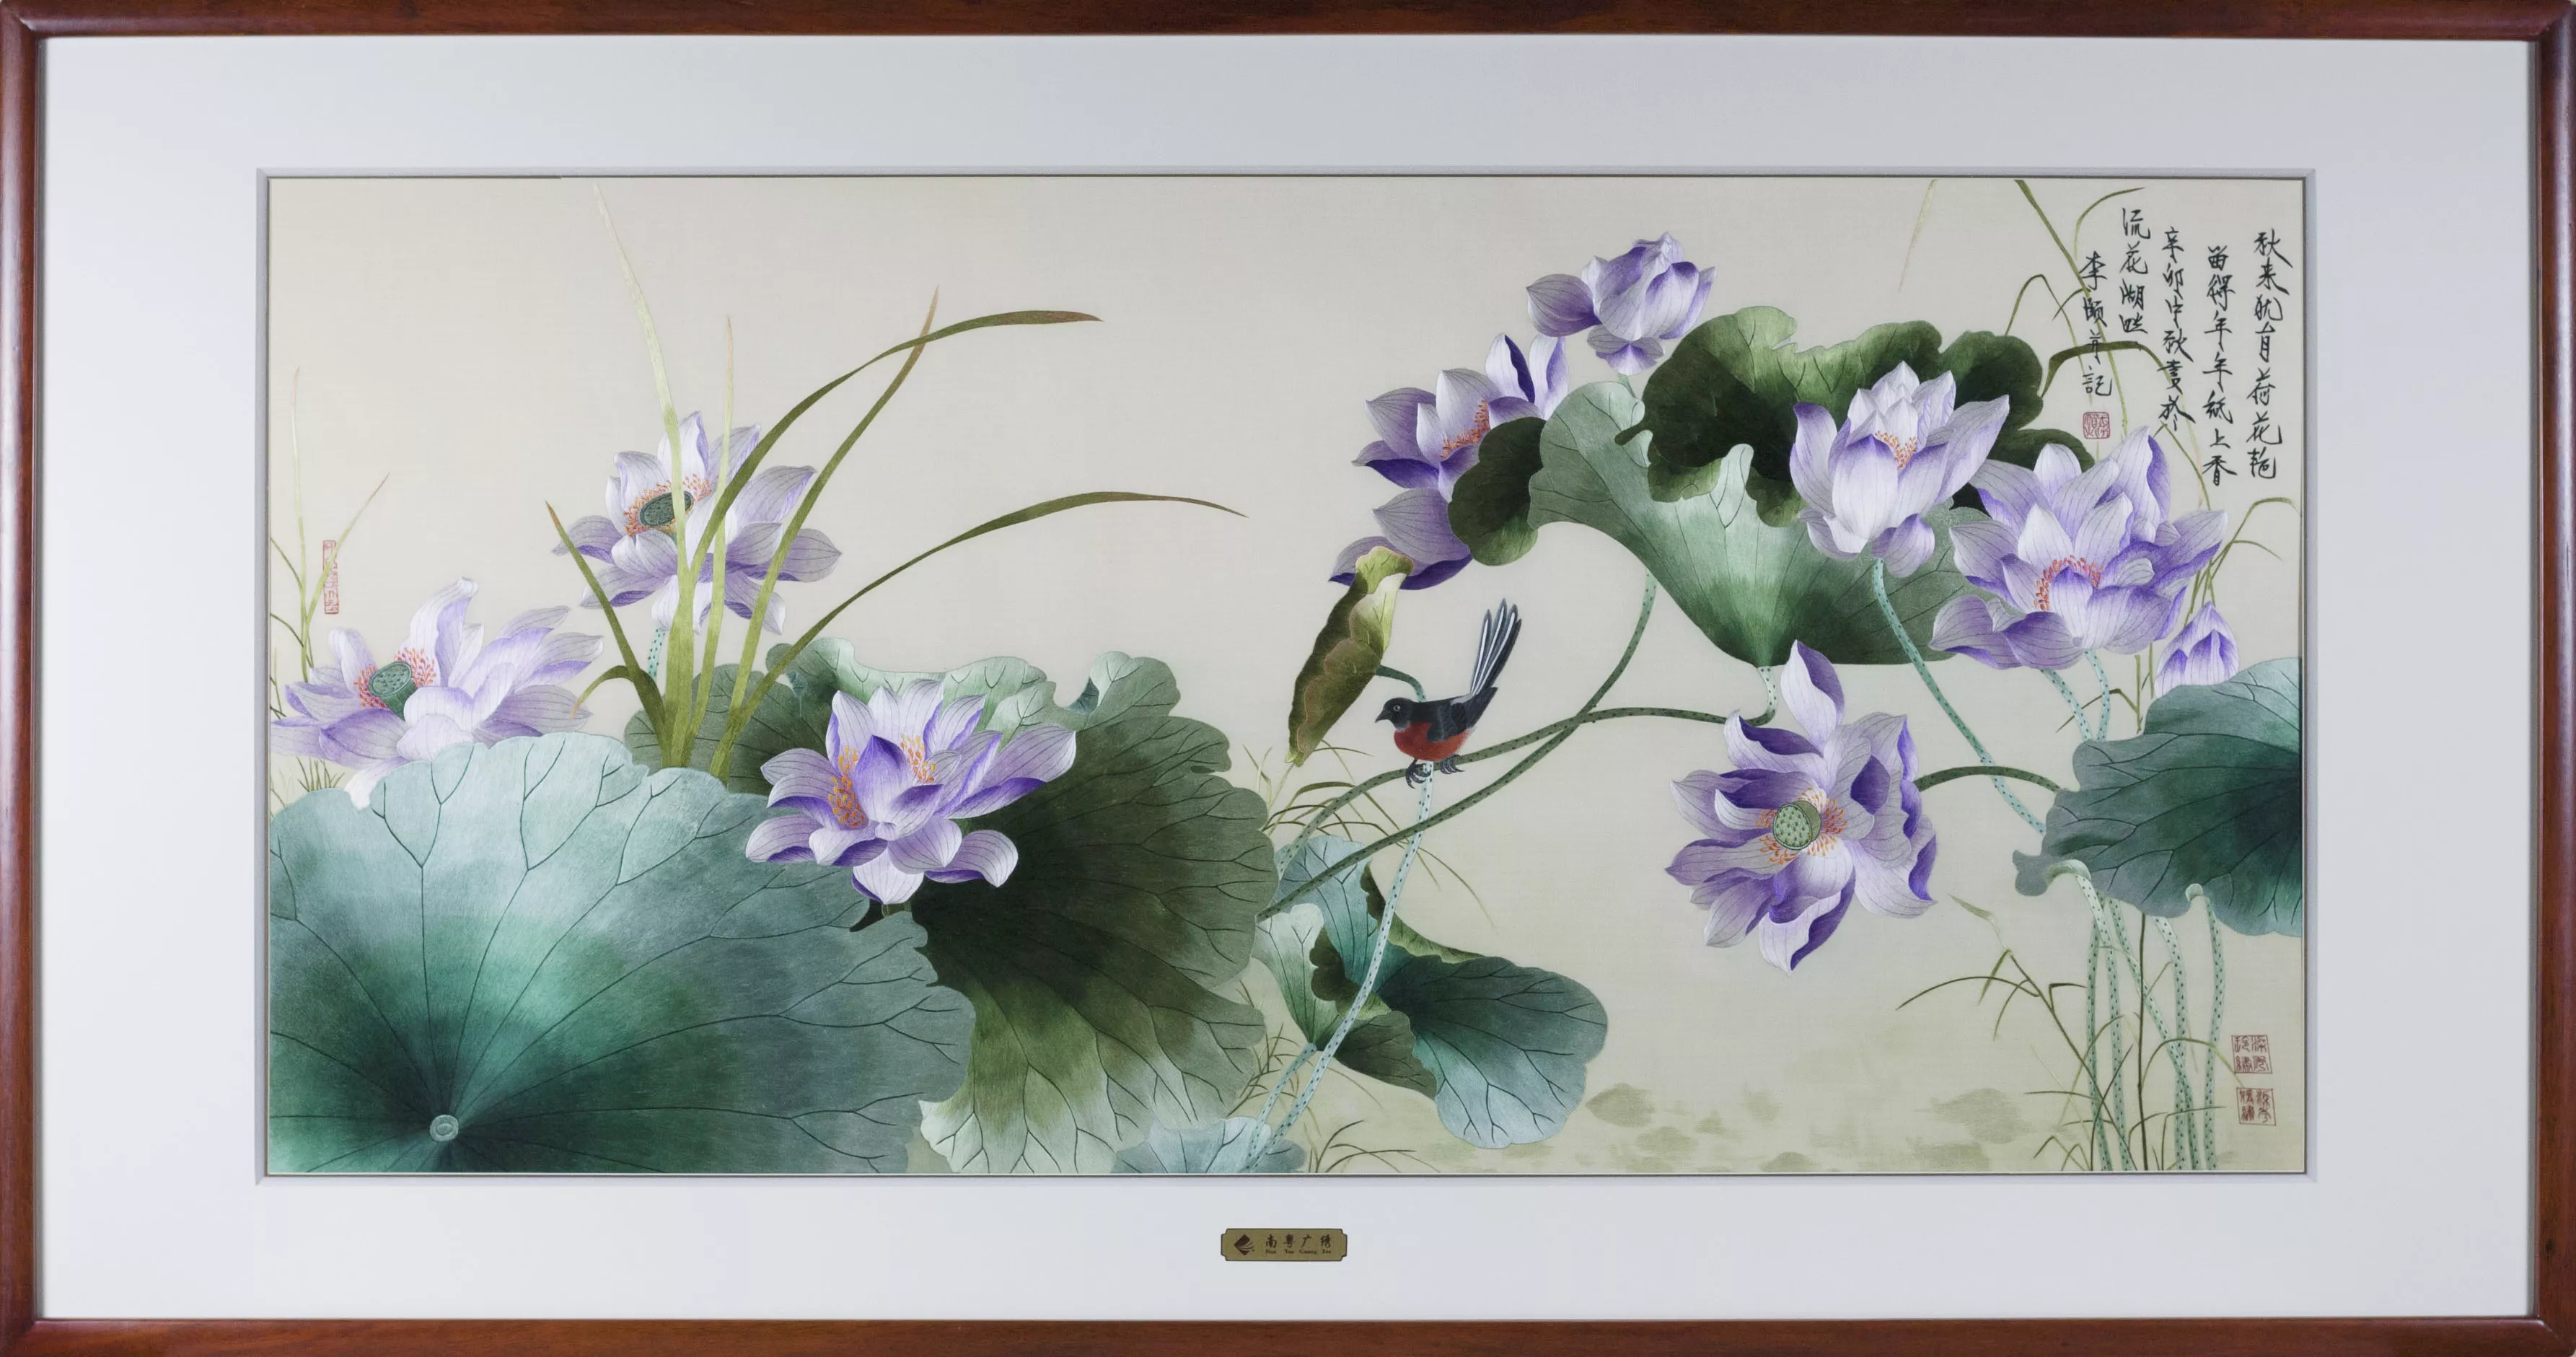bird: (1377, 597, 1523, 789)
lotus: (1663, 639, 1944, 977), (271, 578, 607, 805), (743, 678, 1075, 904), (1927, 424, 2199, 670), (555, 409, 842, 634), (1327, 329, 1567, 592), (1789, 360, 2009, 580), (1525, 228, 1721, 377), (2150, 615, 2208, 702)
